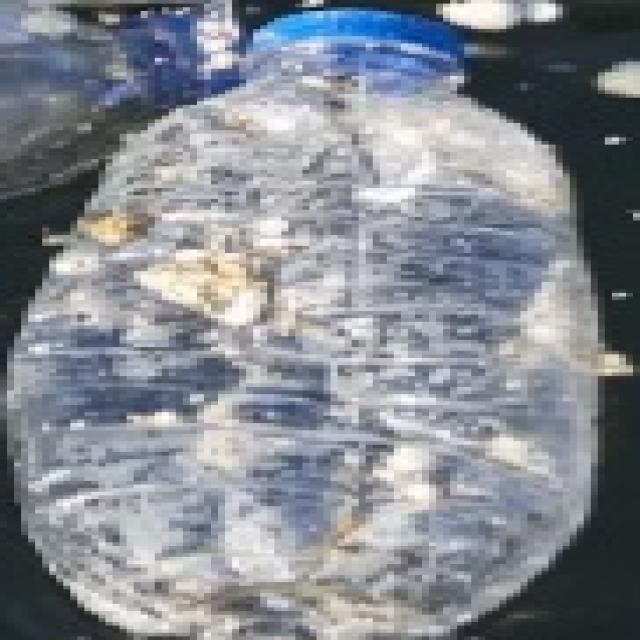plastic bottle: (14, 0, 640, 615)
